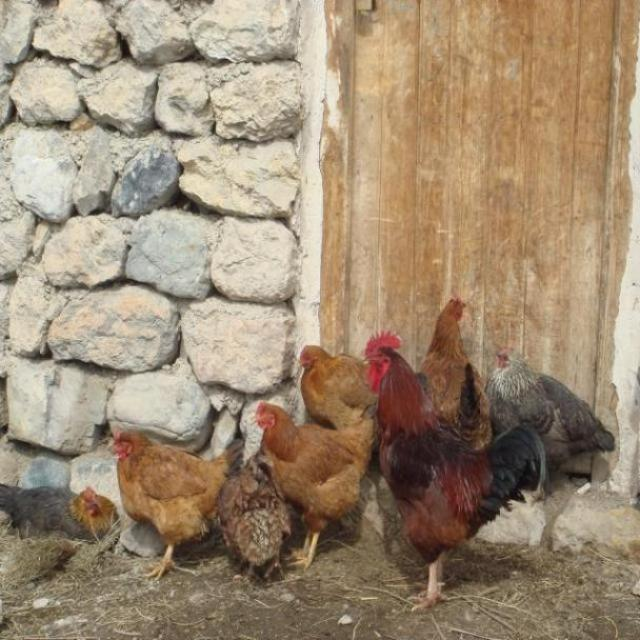Chicken: (357, 326, 547, 615), (248, 398, 384, 570), (485, 340, 618, 512), (103, 425, 235, 574), (415, 293, 493, 467), (208, 450, 290, 589), (0, 474, 119, 545), (291, 341, 378, 430)
